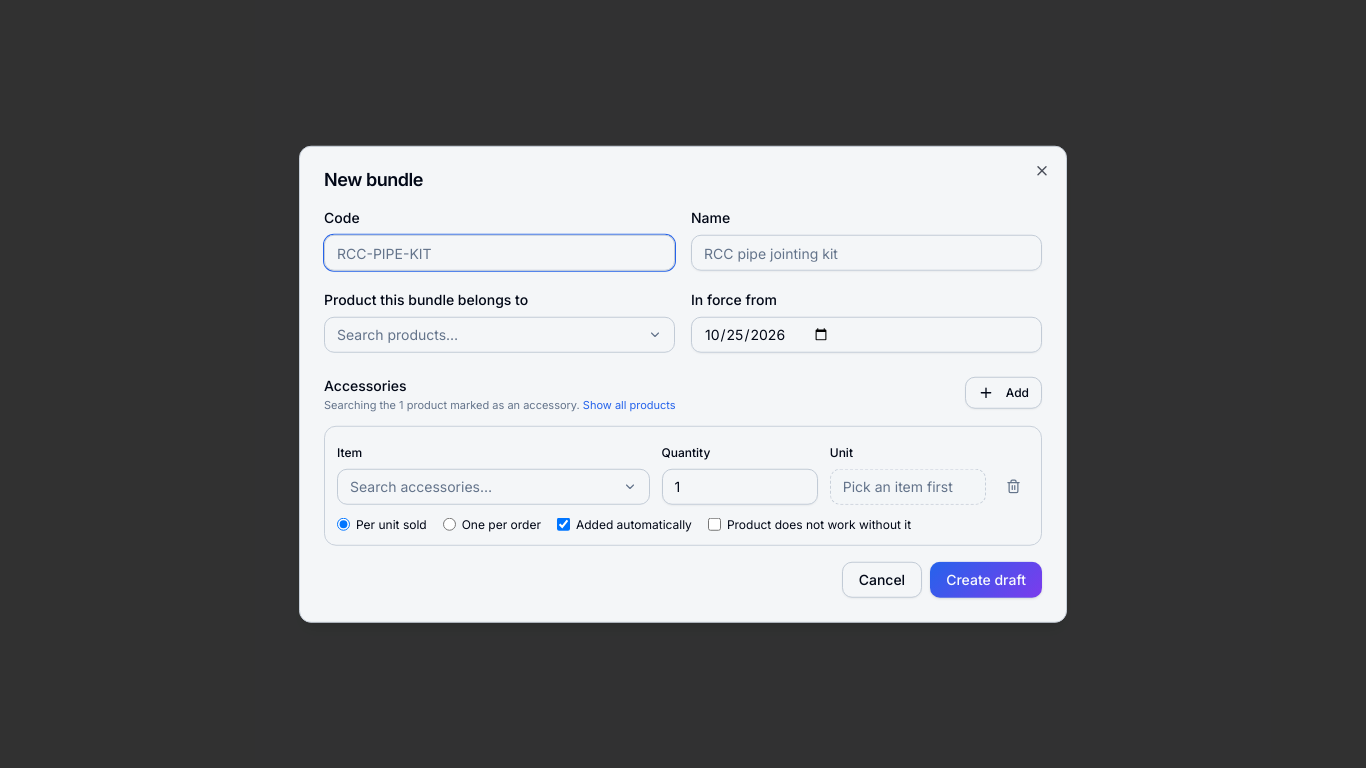
Test: BundleRuleFormDialog › surfaces a refusal from the server instead of closing silently
This screenshot has width=1366, height=768.
In the field with placeholder "RCC-PIPE-KIT": (500, 253) [324, 235, 675, 271], type "X"
In the field with placeholder "RCC pipe jointing kit": (866, 253) [691, 235, 1042, 271], type "Test Kit"
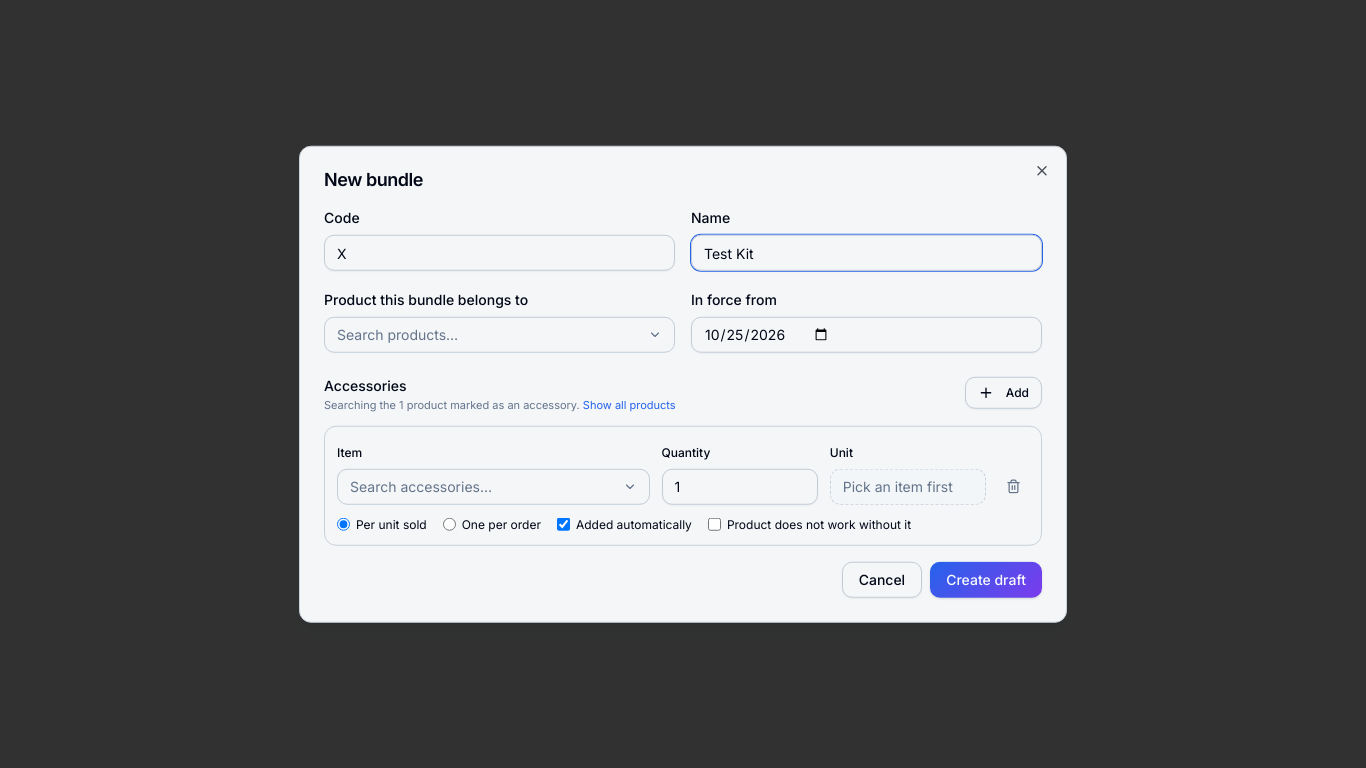
Click the button "Search products…": click(398, 334) [324, 317, 675, 353]
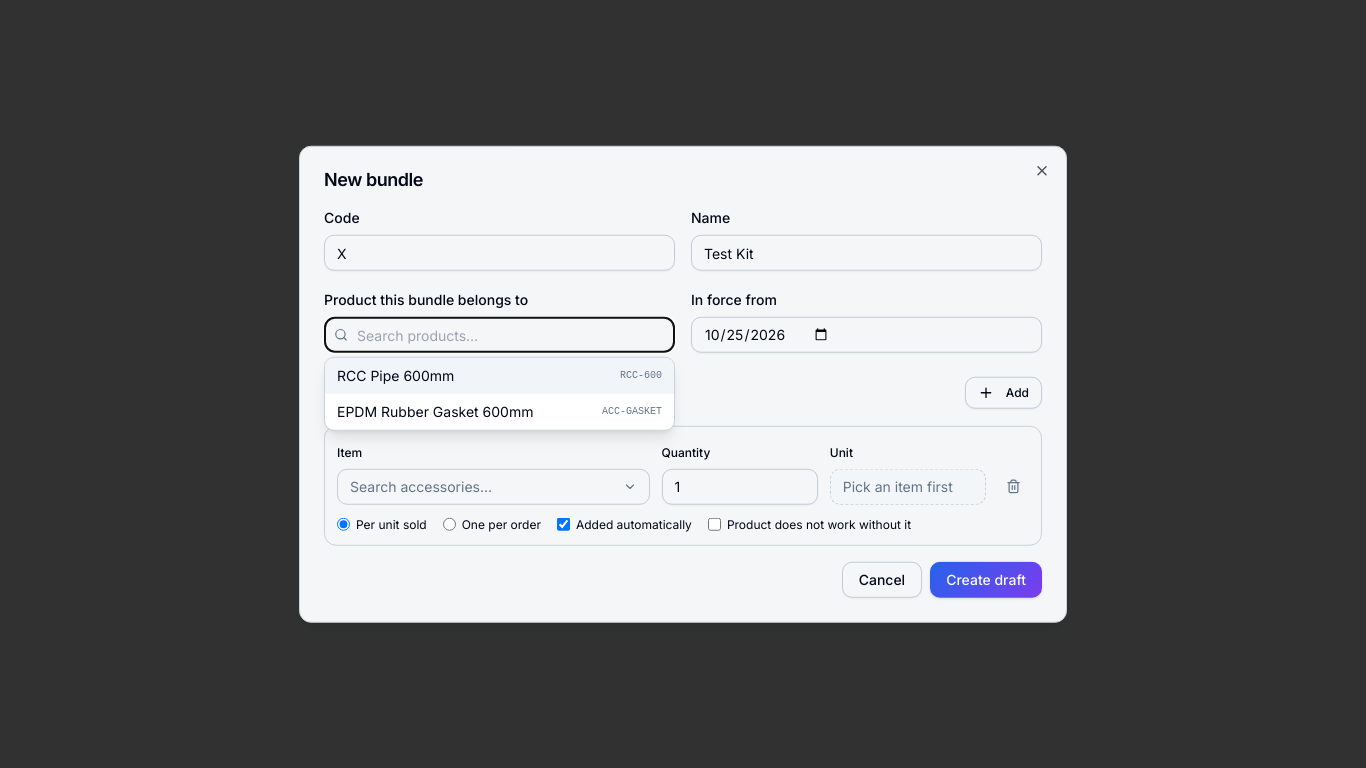
Click the text "RCC Pipe 600mm": click(396, 376) [337, 366, 454, 386]
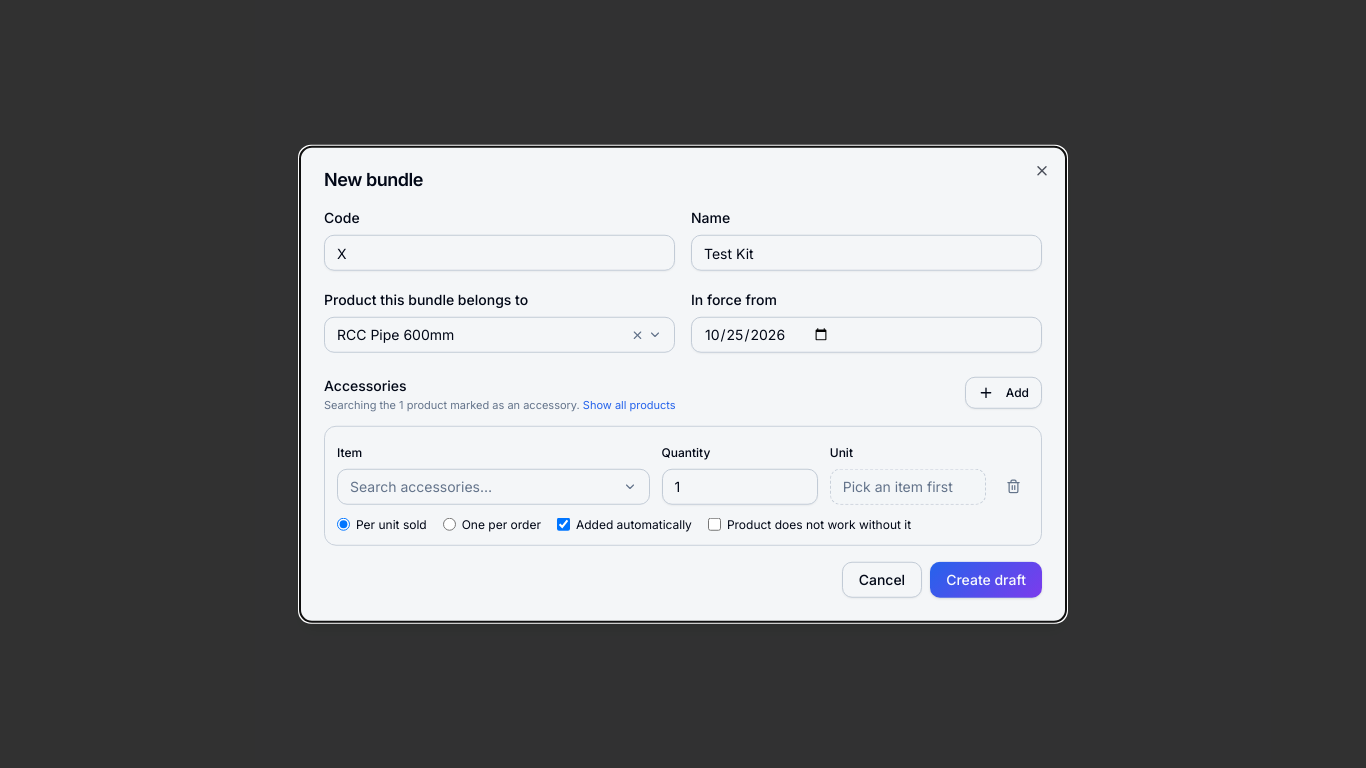
Click the button "Search accessories…": click(493, 486) [337, 468, 650, 504]
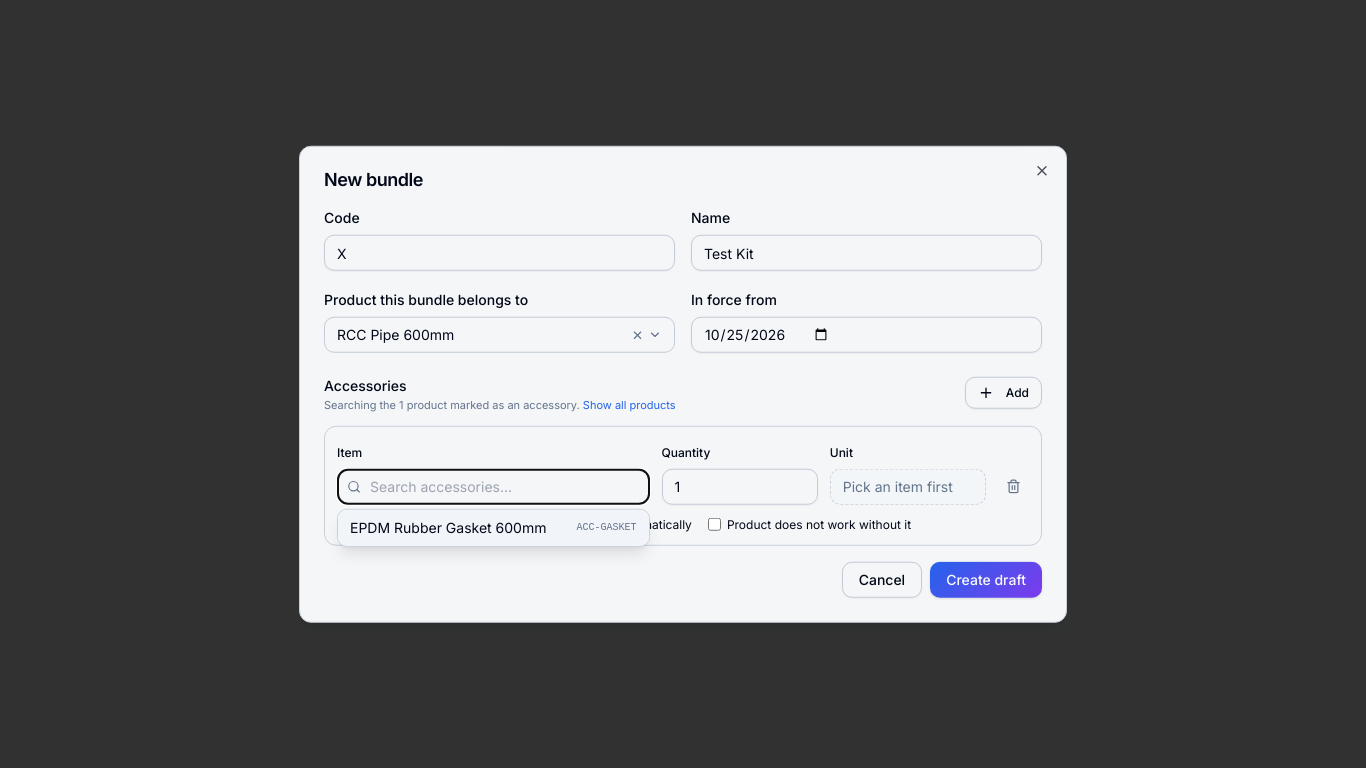
Click the text "EPDM Rubber Gasket 600mm": click(448, 527) [350, 517, 546, 537]
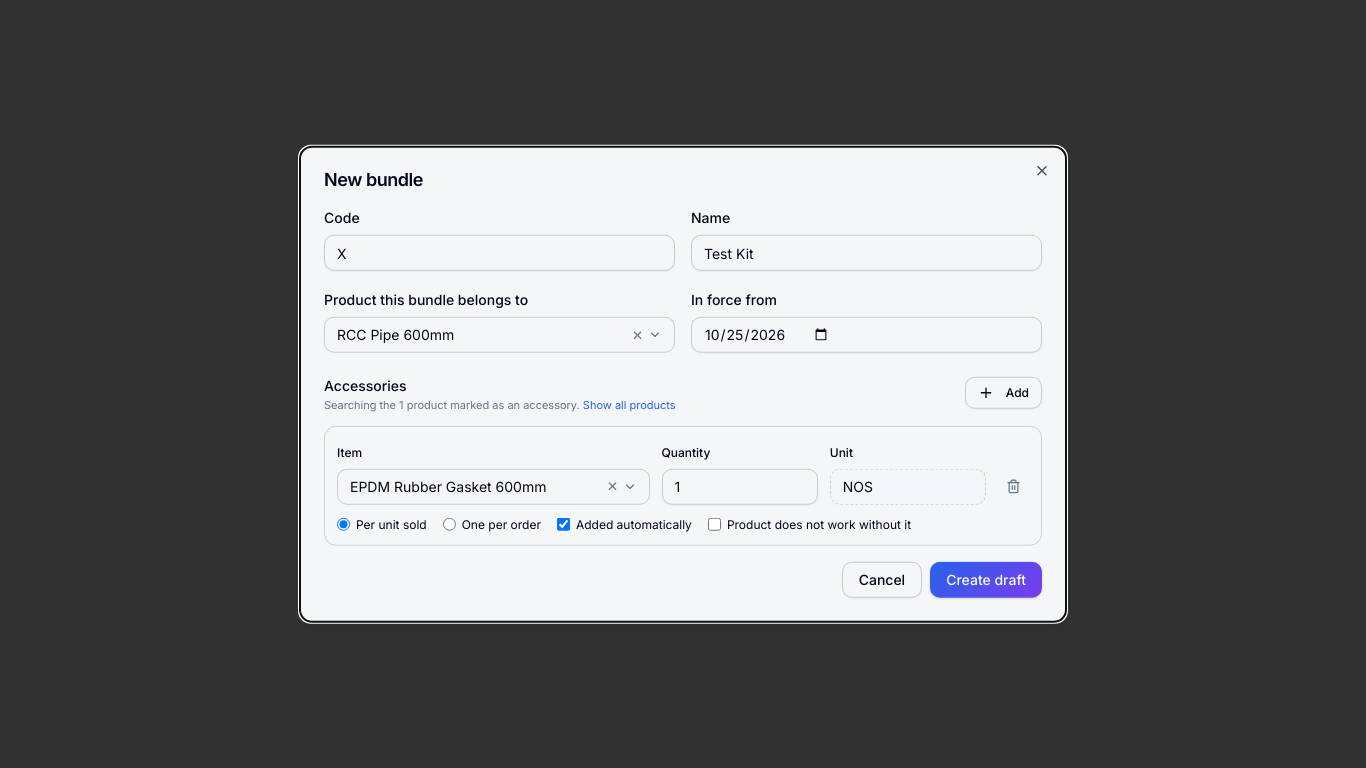
Click the button "Create draft": click(986, 579) [930, 561, 1042, 597]
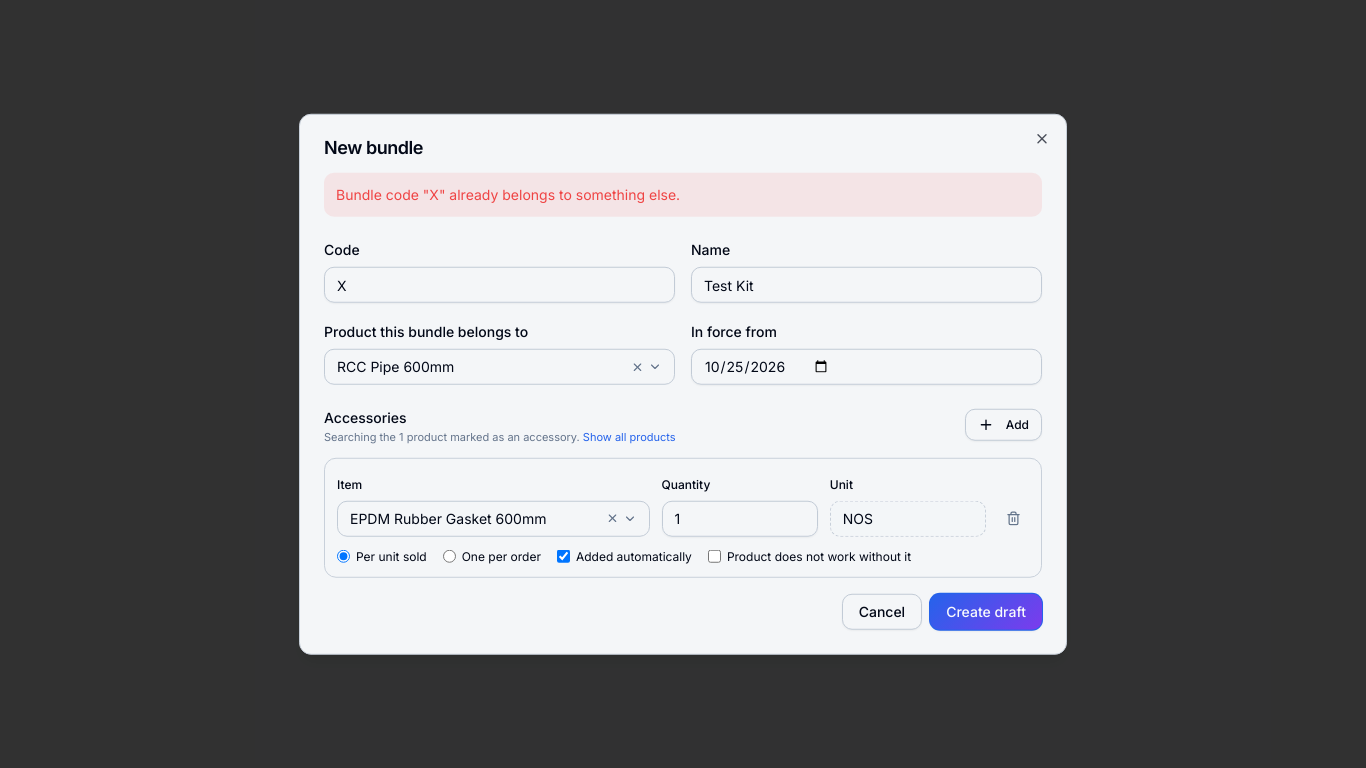
Now the text "Bundle code \"X\" already belongs to something else." is shown, box [324, 173, 1042, 217]
